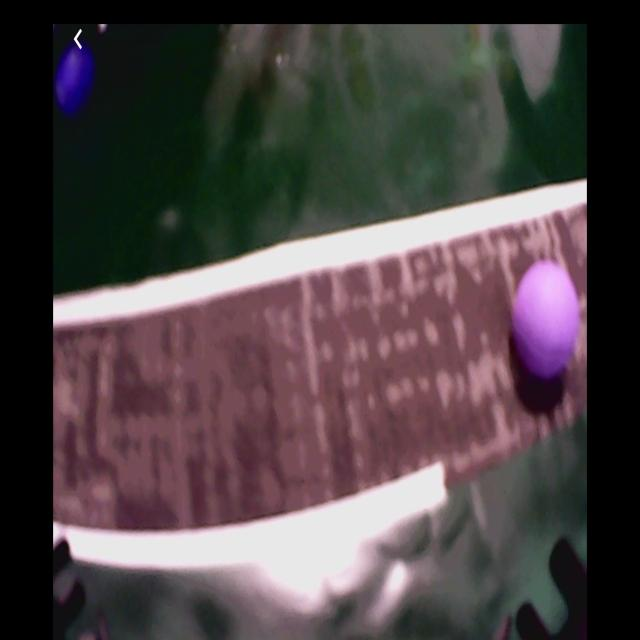ball: (510, 261, 580, 381), (57, 43, 97, 113)
